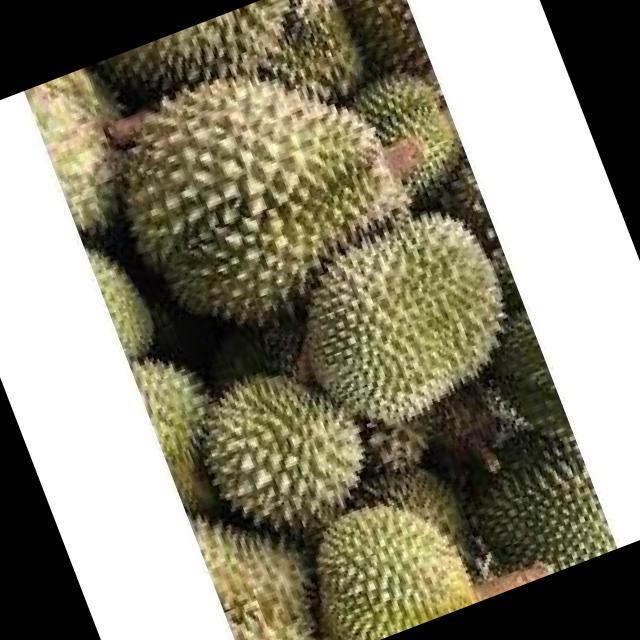fruit: (48, 0, 459, 392), (247, 182, 550, 470), (156, 325, 410, 574), (268, 457, 504, 640)
